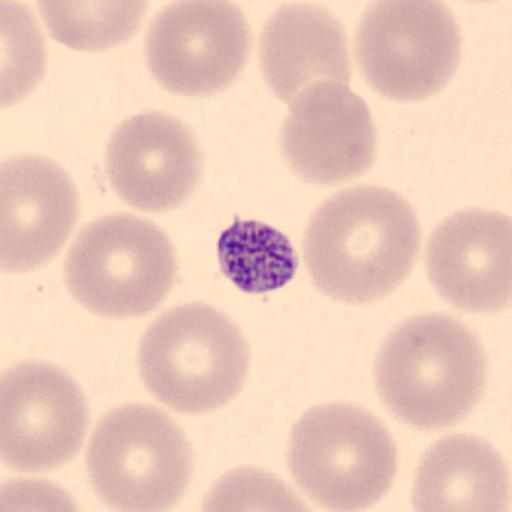Platelet: (214, 215, 302, 296)
RBC: (299, 181, 423, 308), (370, 310, 490, 432), (135, 298, 253, 417), (284, 398, 400, 512), (60, 211, 180, 321), (84, 399, 195, 512), (351, 0, 464, 104), (277, 79, 379, 188), (142, 0, 253, 99), (102, 108, 205, 214), (2, 356, 92, 475), (256, 1, 354, 106), (1, 150, 81, 276), (423, 204, 511, 316), (409, 430, 511, 512), (192, 462, 325, 512), (31, 0, 151, 54), (1, 0, 50, 110), (2, 475, 86, 512), (439, 0, 512, 6)
